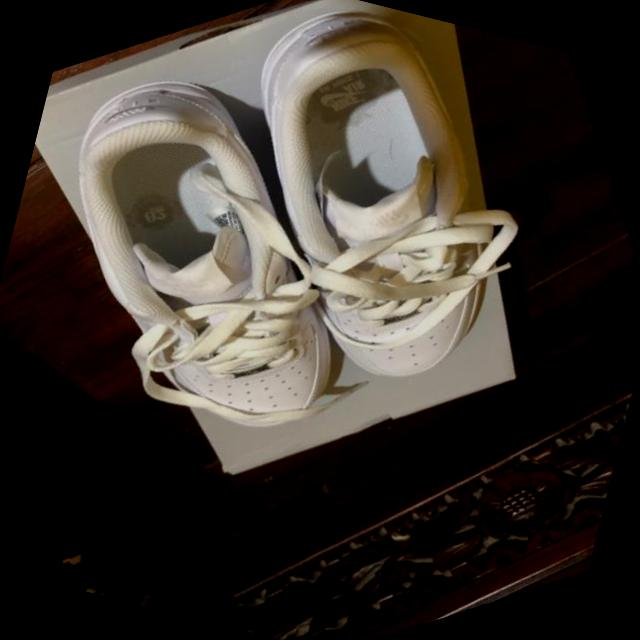nike_original_airforce: (0, 14, 426, 502), (154, 0, 611, 437)
